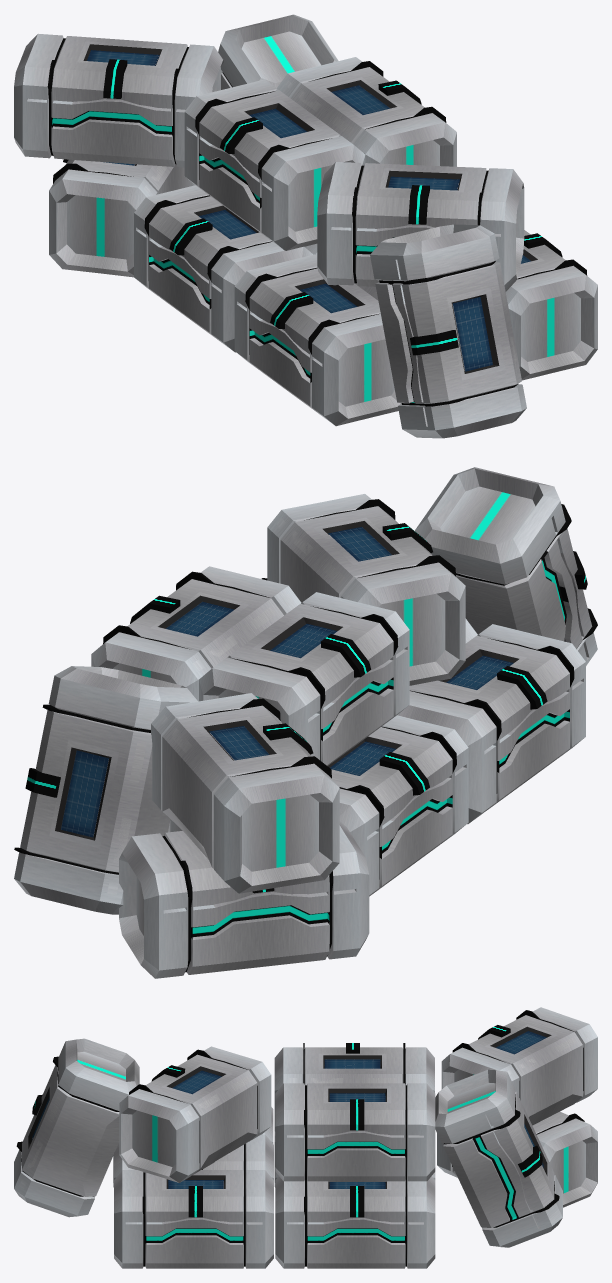
File: CoverBlocks_2.fbx
3 views of the same model, one above another, from view 1: azimuth 30°, elevation 25°; view 2: azimuth 150°, elevation 25°; view 3: azimuth 270°, elevation 25° (orthographic). The views are drawn at different scales.
Visible parts, largest first — view 1: Blockade2; view 2: Blockade2; view 3: Blockade2.
Boxes of the visible parts, x1,y1,x2,y2 form: Blockade2: [14, 14, 597, 438]; Blockade2: [14, 467, 597, 978]; Blockade2: [14, 1007, 597, 1268].
Size of the model in its own units: 1.64 by 0.936 by 3.17.
